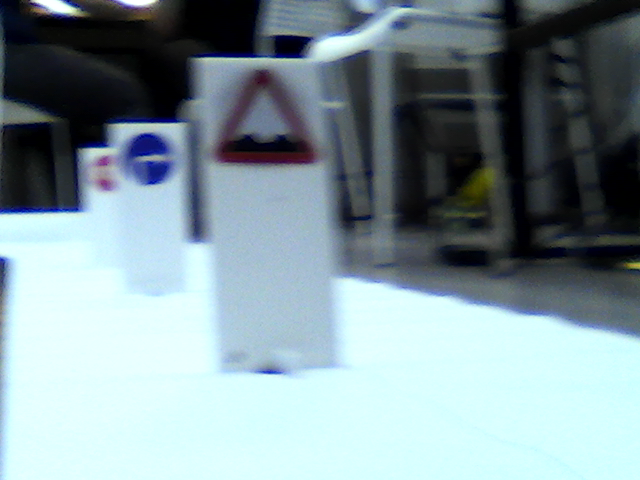Nerov: (216, 68, 322, 165)
